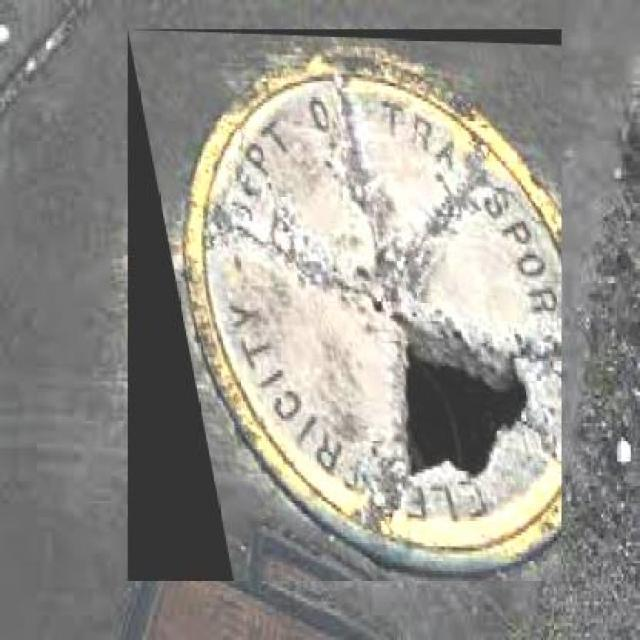Manhole: (130, 29, 564, 580)
